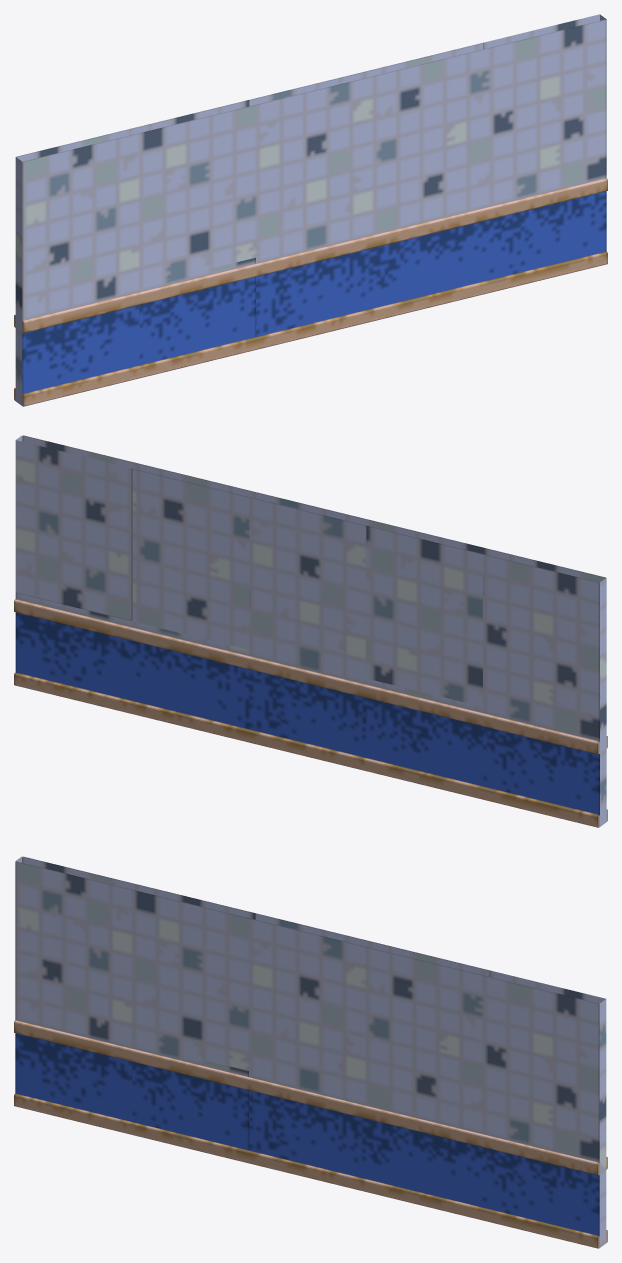
Rendered from Wall_TipoB.fbx.
3 views of the same model, one above another, from view 1: azimuth 30°, elevation 25°; view 2: azimuth 150°, elevation 25°; view 3: azimuth 330°, elevation 25° (orthographic).
Parts seen in each view (by area): view 1: Cube.103, Cube.068, Cube.104; view 2: Cube.103, Cube.067, Cube.102; view 3: Cube.103, Cube.068, Cube.104.
Part boxes in pixels (x1=…): Cube.103: x1=15, y1=14, x2=606, y2=405; Cube.068: x1=22, y1=251, x2=607, y2=406; Cube.104: x1=22, y1=178, x2=607, y2=333; Cube.103: x1=15, y1=435, x2=606, y2=826; Cube.067: x1=14, y1=672, x2=599, y2=827; Cube.102: x1=14, y1=599, x2=599, y2=754; Cube.103: x1=15, y1=856, x2=606, y2=1247; Cube.068: x1=14, y1=1093, x2=599, y2=1248; Cube.104: x1=14, y1=1020, x2=599, y2=1175.
Size of the model in its own units: 1000 by 400 by 28.98.
